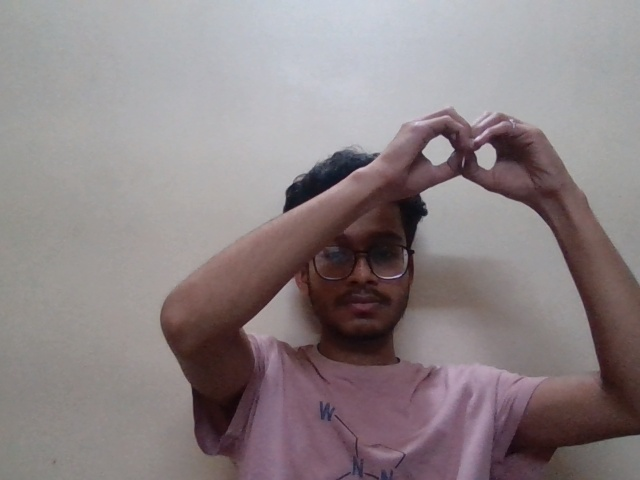see: (382, 106, 598, 231)
